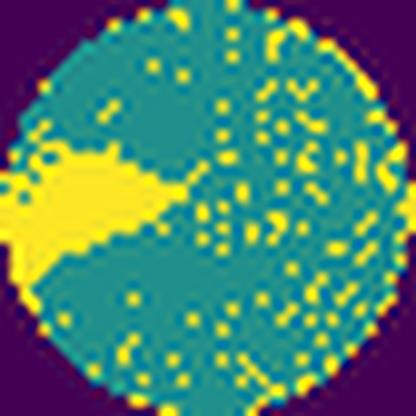Loc: (0, 119, 193, 314)
